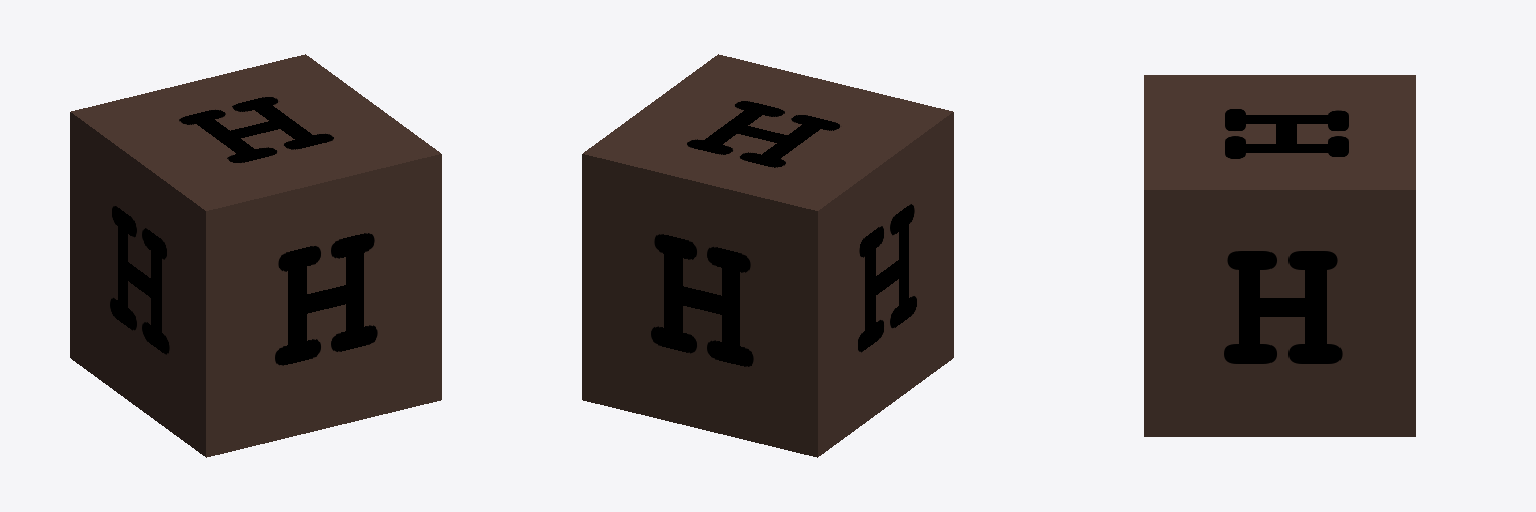
The picture shows the model from 3 angles: view 1: azimuth 30°, elevation 25°; view 2: azimuth 150°, elevation 25°; view 3: azimuth 270°, elevation 25°; orthographic projection.
Parts seen in each view (by area): view 1: cube; view 2: cube; view 3: cube.
Part boxes in pixels (left/top/right/bottom): cube: left=70, top=54, right=441, bottom=457; cube: left=582, top=54, right=953, bottom=457; cube: left=1144, top=75, right=1415, bottom=436.
Size of the model in its own units: 1 by 1 by 1.
1 materials, 1 textured.